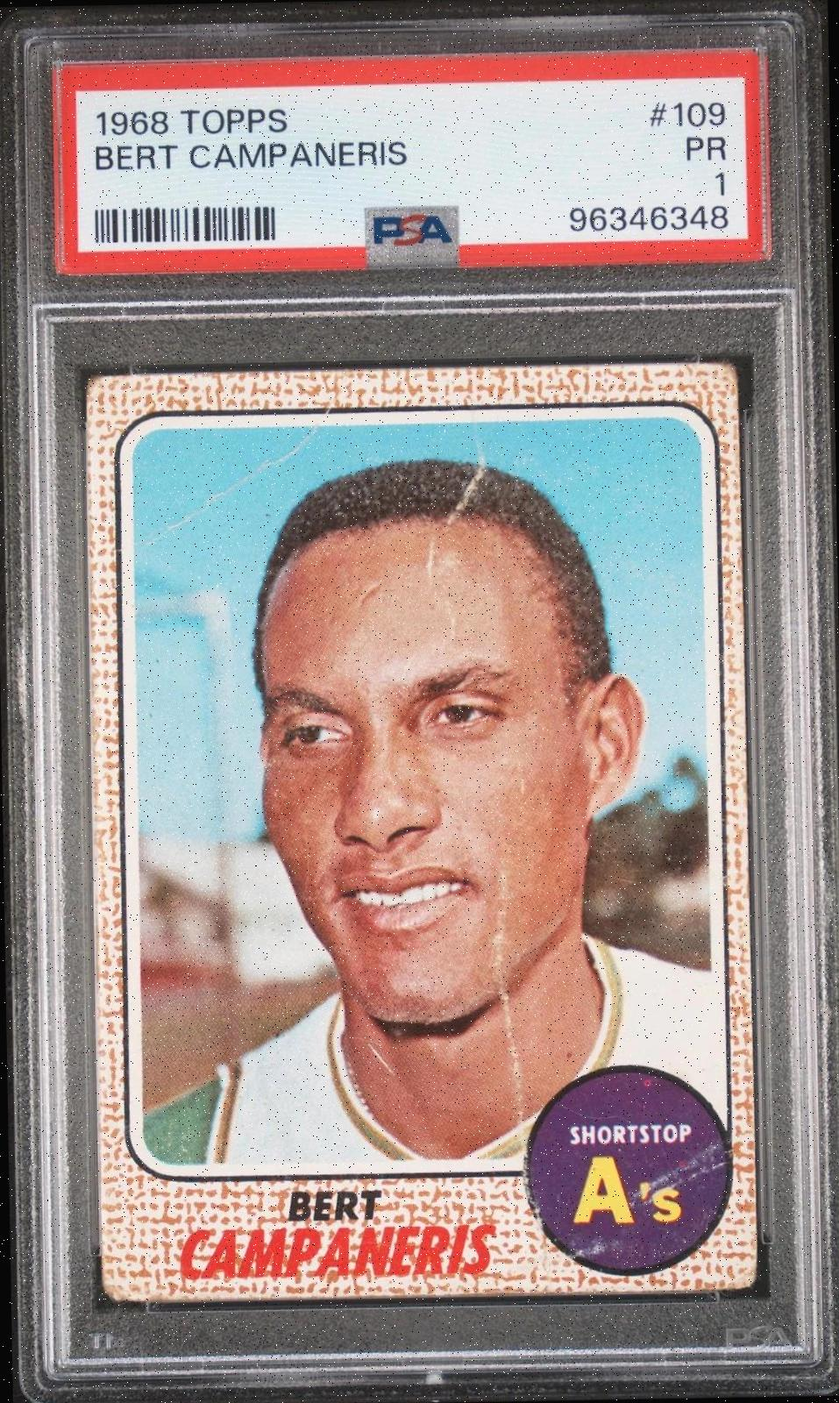card-2UtV: (84, 359, 759, 1304)
